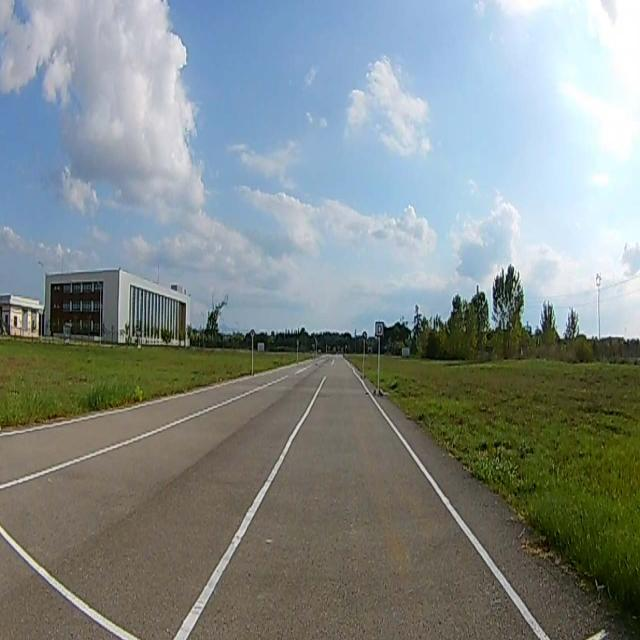durak: (375, 322, 384, 338)
